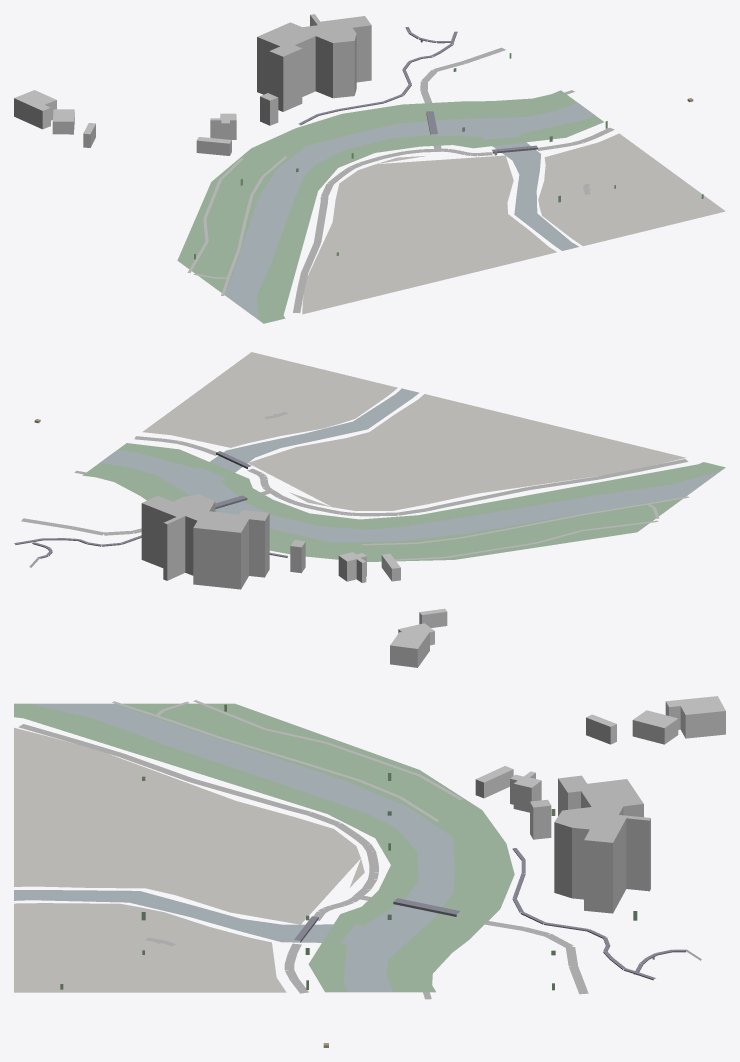
3 renders of one model, top to bottom at view 1: azimuth 30°, elevation 25°; view 2: azimuth 150°, elevation 25°; view 3: azimuth 270°, elevation 25°, orthographic. The views are drawn at different scales.
Size of the model in its own units: 601 by 58.46 by 521.
